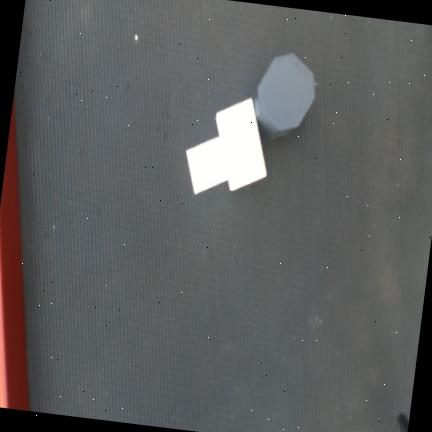Paralelepipedo: (215, 96, 266, 191)
Piramide: (185, 135, 227, 195)
Prisma_hexagonal: (254, 53, 315, 137)
